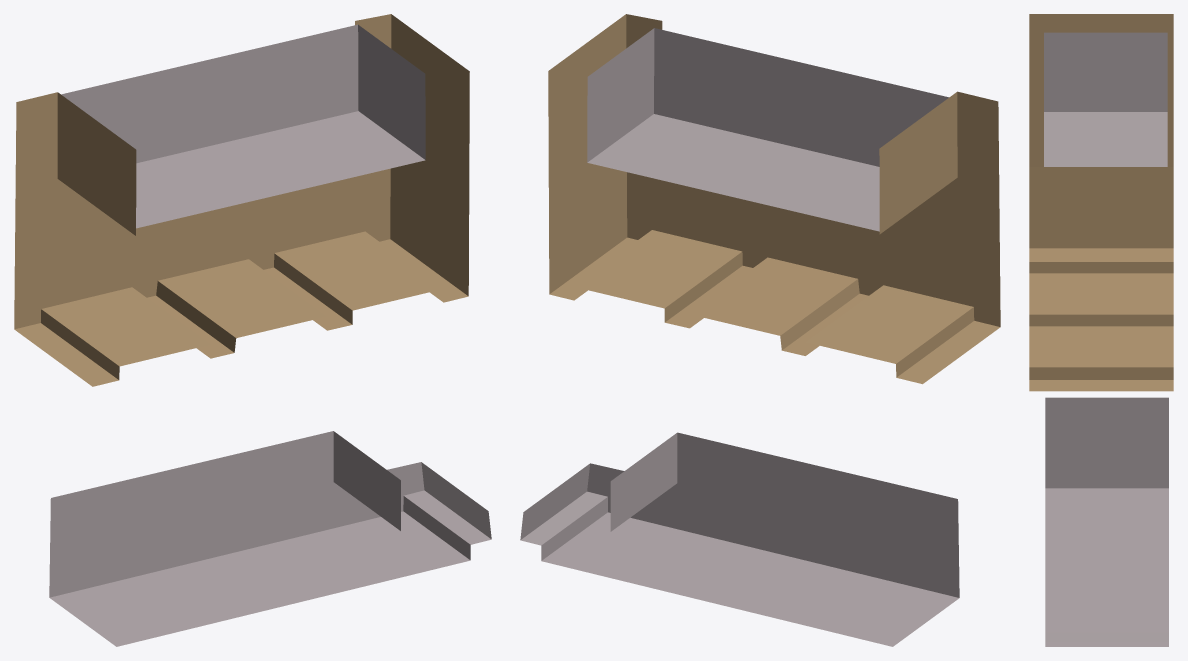
3 views of the same model, side by side, from view 1: azimuth 30°, elevation 25°; view 2: azimuth 150°, elevation 25°; view 3: azimuth 270°, elevation 25° (orthographic). The views are drawn at different scales.
Parts seen in each view (by area): view 1: 0_3_2_0_2_2_3_0; view 2: 0_3_2_0_2_2_3_0; view 3: 0_3_2_0_2_2_3_0.
Boxes of the visible parts, x1,y1,x2,y2 form: 0_3_2_0_2_2_3_0: [14, 14, 491, 646]; 0_3_2_0_2_2_3_0: [520, 14, 1000, 646]; 0_3_2_0_2_2_3_0: [1029, 14, 1173, 646].
Size of the model in its own units: 63 by 73.98 by 21.
